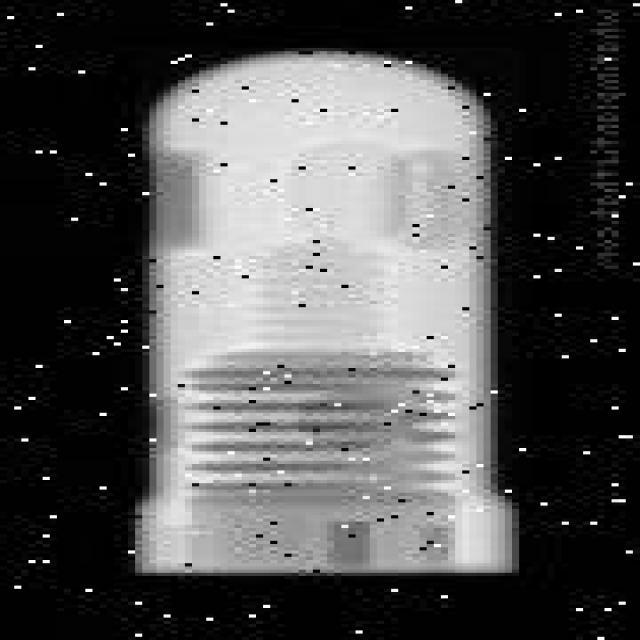Root canal obturation: (131, 47, 519, 573)
